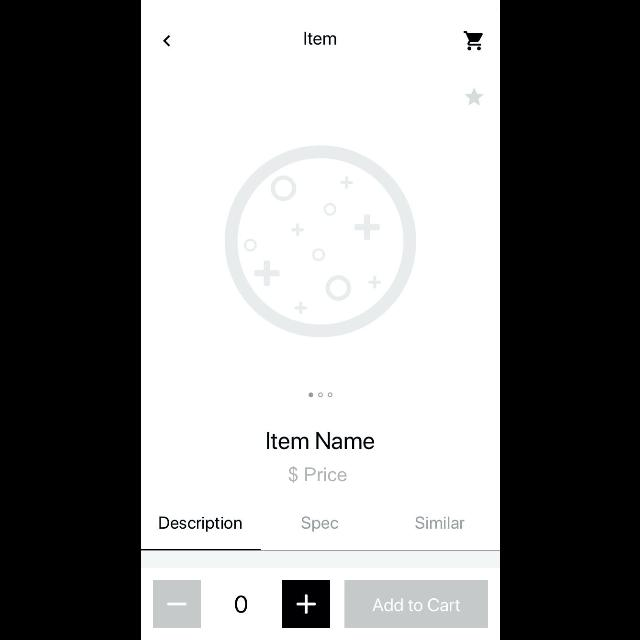icon: (282, 580, 330, 628), (153, 580, 200, 628), (463, 31, 483, 51), (464, 88, 484, 106), (162, 35, 170, 47)
image: (224, 146, 416, 338)
pageindicator: (308, 392, 332, 398)
text: (266, 432, 374, 450), (159, 516, 241, 532), (288, 466, 346, 484), (300, 516, 338, 532), (416, 516, 464, 528), (304, 32, 336, 46), (235, 596, 247, 612)
textbutton: (344, 580, 488, 628)
